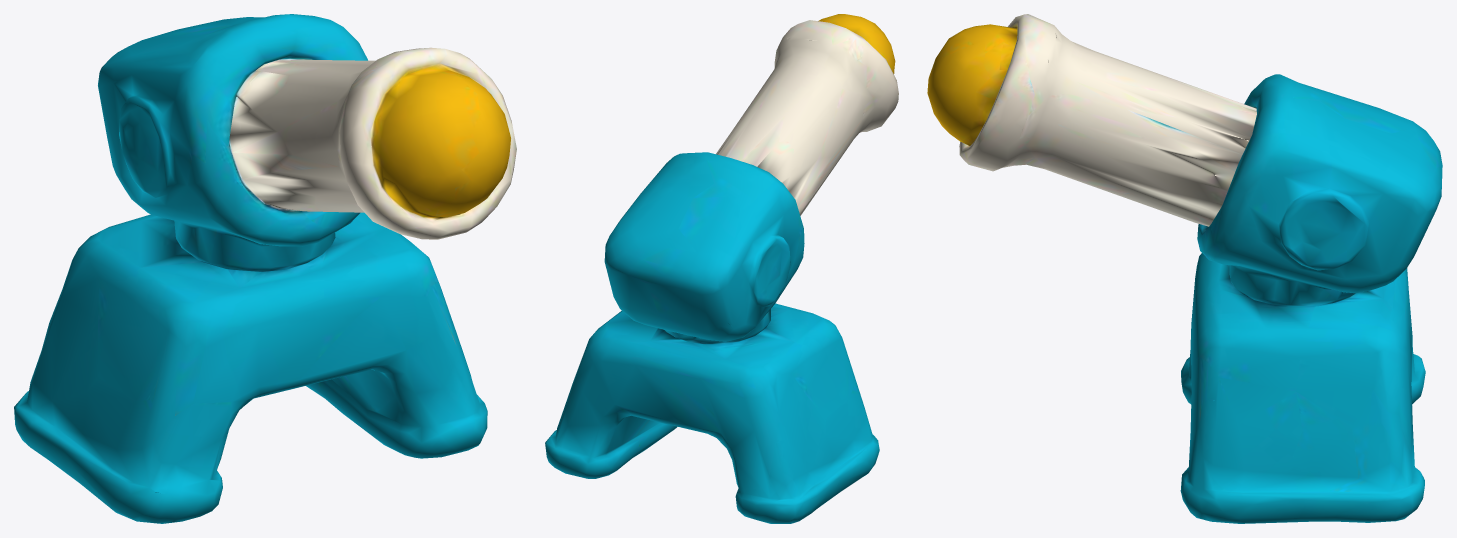
Rendered from cannon.glb.
3 renders of one model, left to right at view 1: azimuth 30°, elevation 25°; view 2: azimuth 150°, elevation 25°; view 3: azimuth 270°, elevation 25°, orthographic. The views are drawn at different scales.
Visible parts, largest first — view 1: tripo_node_1875b5d3-dc8d-41de-b85c-c512792d51f8; view 2: tripo_node_1875b5d3-dc8d-41de-b85c-c512792d51f8; view 3: tripo_node_1875b5d3-dc8d-41de-b85c-c512792d51f8.
Boxes of the visible parts, bbox=[...] form: tripo_node_1875b5d3-dc8d-41de-b85c-c512792d51f8: bbox=[14, 14, 516, 523]; tripo_node_1875b5d3-dc8d-41de-b85c-c512792d51f8: bbox=[545, 14, 898, 523]; tripo_node_1875b5d3-dc8d-41de-b85c-c512792d51f8: bbox=[927, 14, 1442, 523].
Bounding box in the file's own units: 0.7646 × 0.9996 × 1.09.
1 material, 1 textured.
